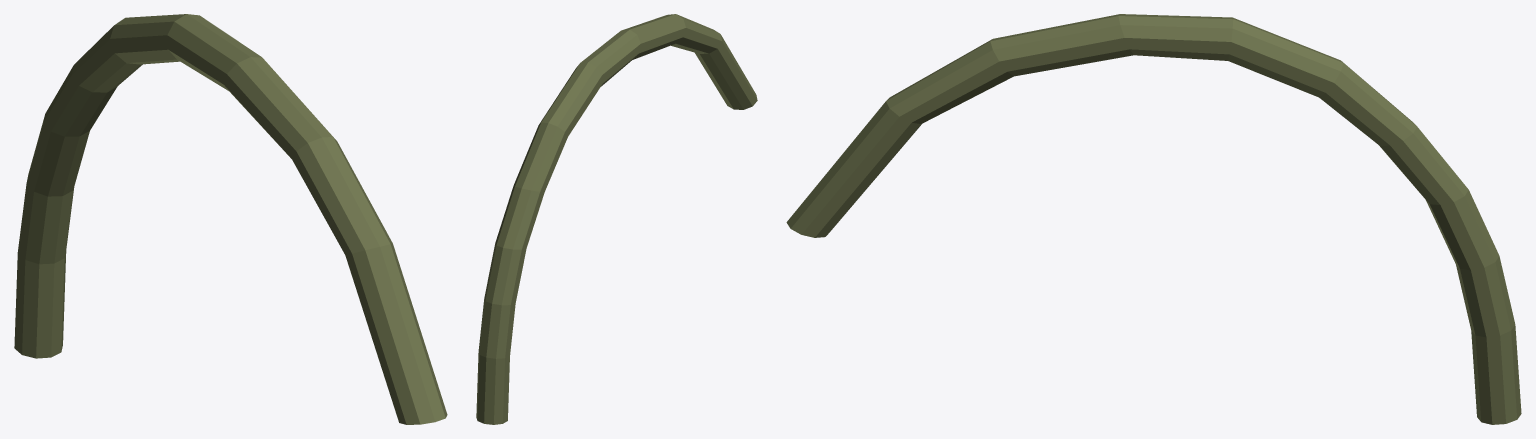
File: shuteng2.fbx
3 views of the same model, side by side, from view 1: azimuth 30°, elevation 25°; view 2: azimuth 150°, elevation 25°; view 3: azimuth 270°, elevation 25° (orthographic). The views are drawn at different scales.
Visible parts, largest first — view 1: pasted__pTorus1; view 2: pasted__pTorus1; view 3: pasted__pTorus1.
Boxes of the visible parts, <box> form: pasted__pTorus1: <box>14,14,447,424</box>; pasted__pTorus1: <box>476,14,757,424</box>; pasted__pTorus1: <box>786,14,1521,424</box>.
Size of the model in its own units: 0.2526 by 2.63 by 4.37.
